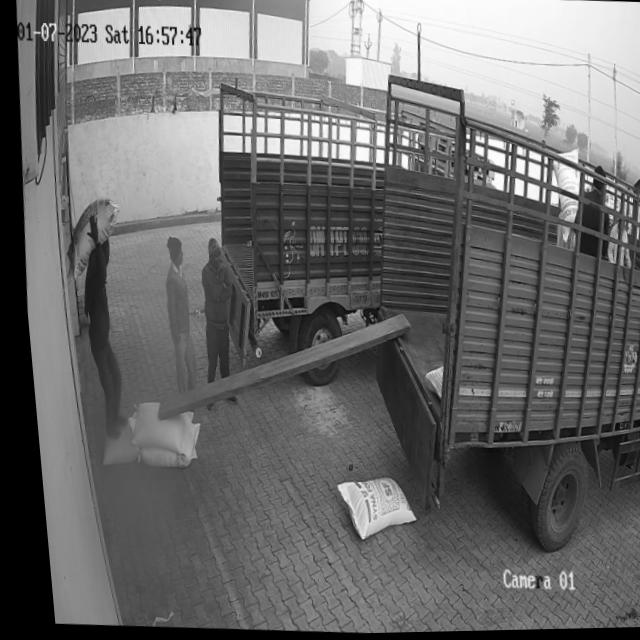sack: (324, 476, 409, 545), (57, 196, 121, 286), (119, 401, 189, 458), (126, 421, 196, 471), (89, 414, 135, 469)
